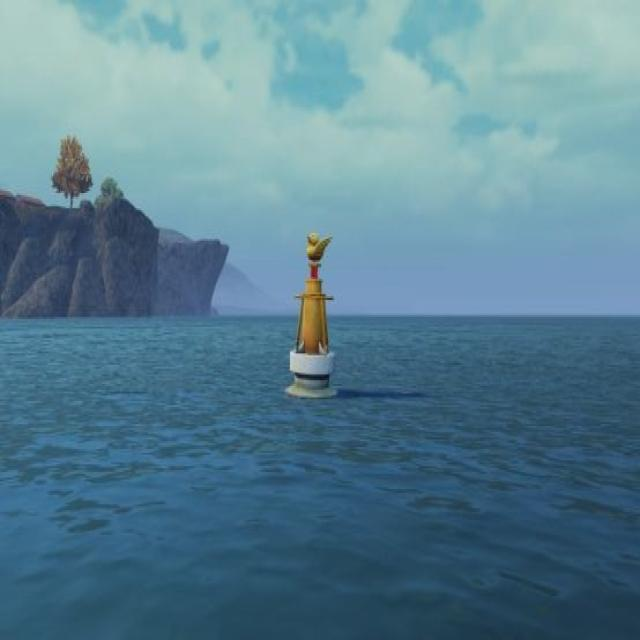buoy: (275, 228, 341, 398)
